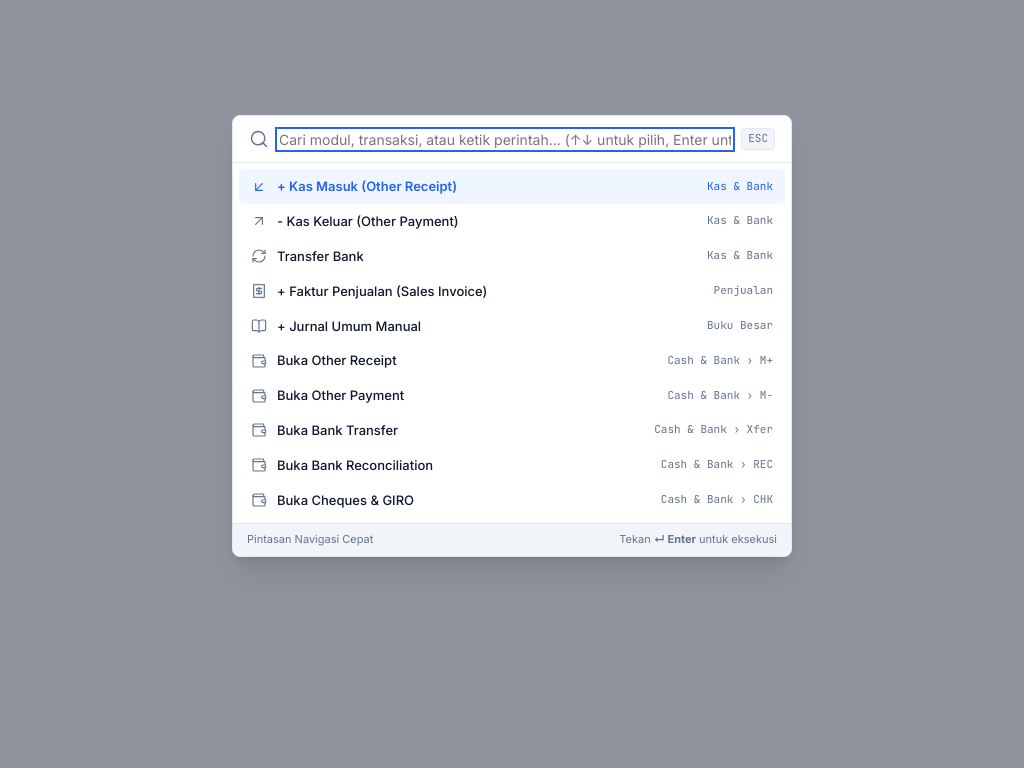
CommandPalette Component › shows email module commands for owner/admin roles
Replace the text in the dropdown with placeholder "Cari modul, transaksi" with "Email" at [505, 139], box [279, 131, 731, 148]
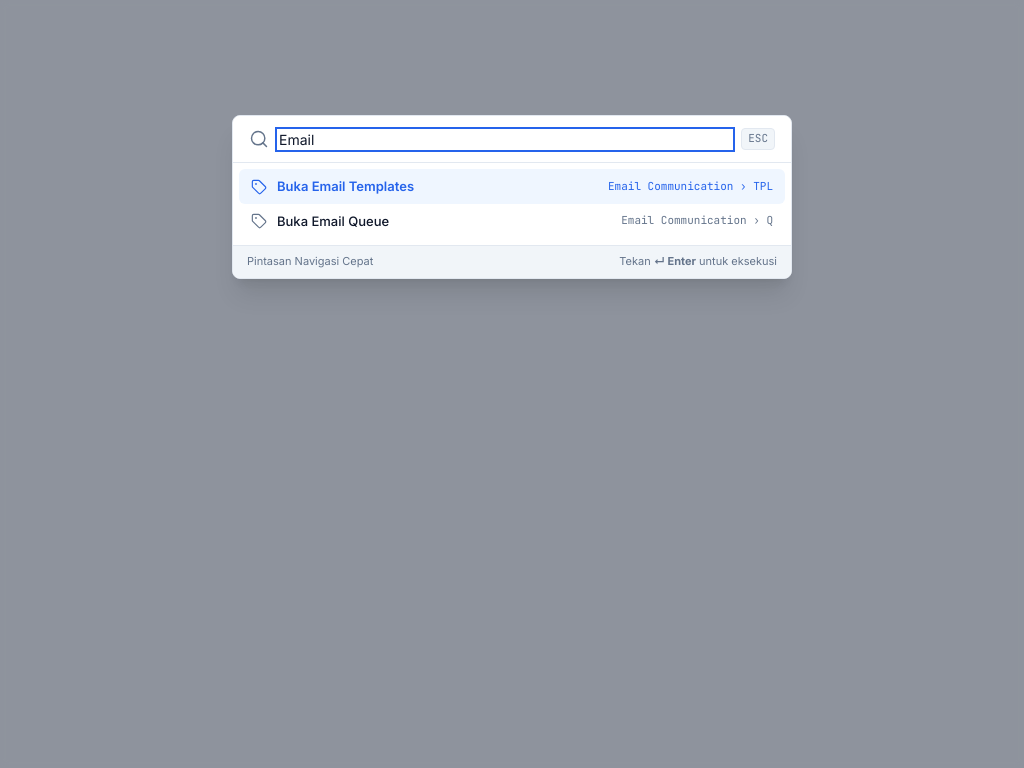
expect the text "Buka Email Templates" is shown: met, box [277, 177, 414, 196]
